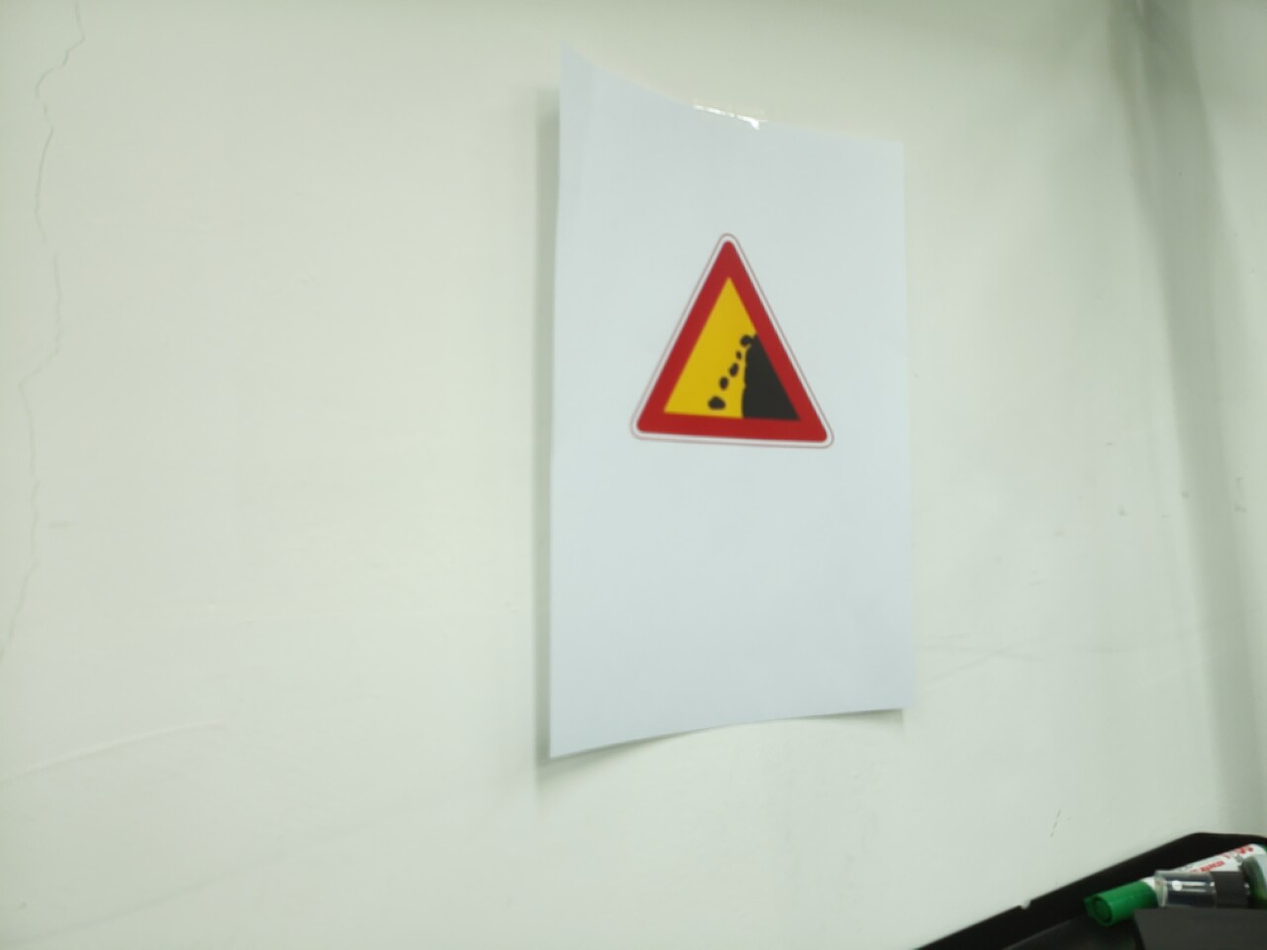falling_rocks: (629, 234, 835, 450)
